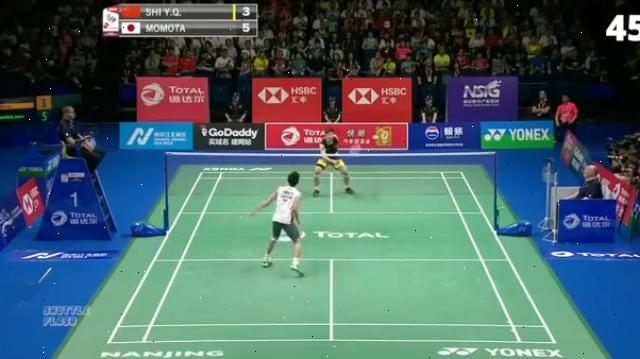Shuttlecock: (372, 134, 382, 142)
